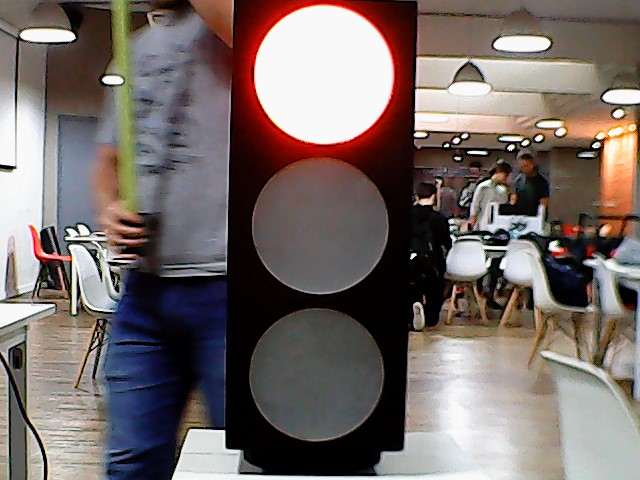vermelho: (219, 1, 434, 478)
